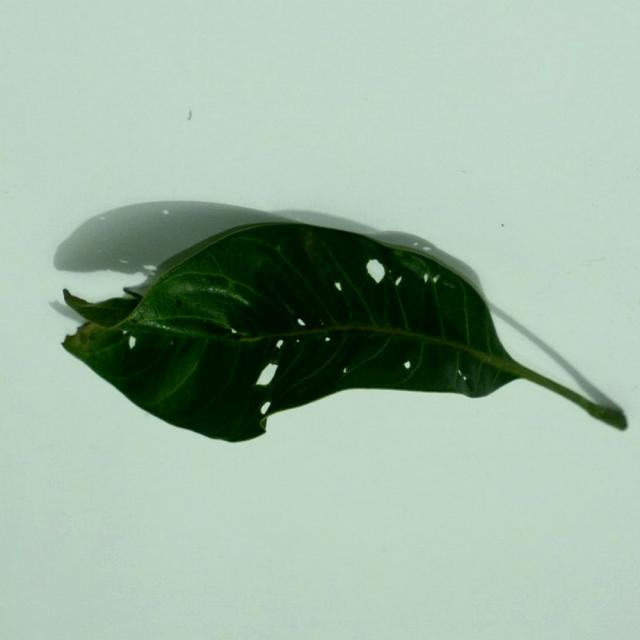Anthracnose: (274, 336, 302, 384), (364, 260, 404, 293), (252, 355, 277, 394), (291, 308, 312, 337), (331, 276, 345, 298), (143, 265, 157, 277), (272, 342, 282, 358), (404, 357, 414, 371), (229, 325, 239, 335), (431, 273, 440, 284), (422, 271, 430, 283), (129, 336, 136, 349), (456, 368, 464, 378), (342, 366, 348, 374), (324, 336, 331, 342)
Mango: (52, 202, 629, 445)
